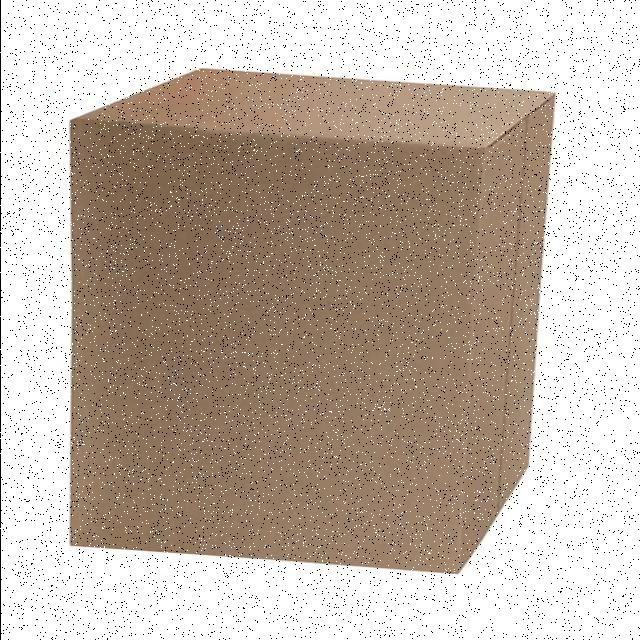normal: (53, 68, 559, 575)
